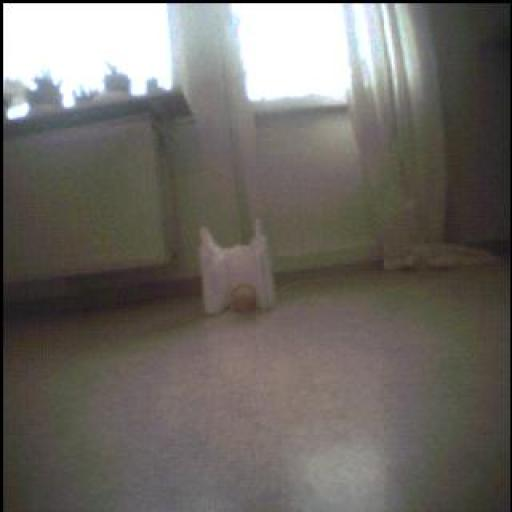Basket: (228, 284, 261, 316)
